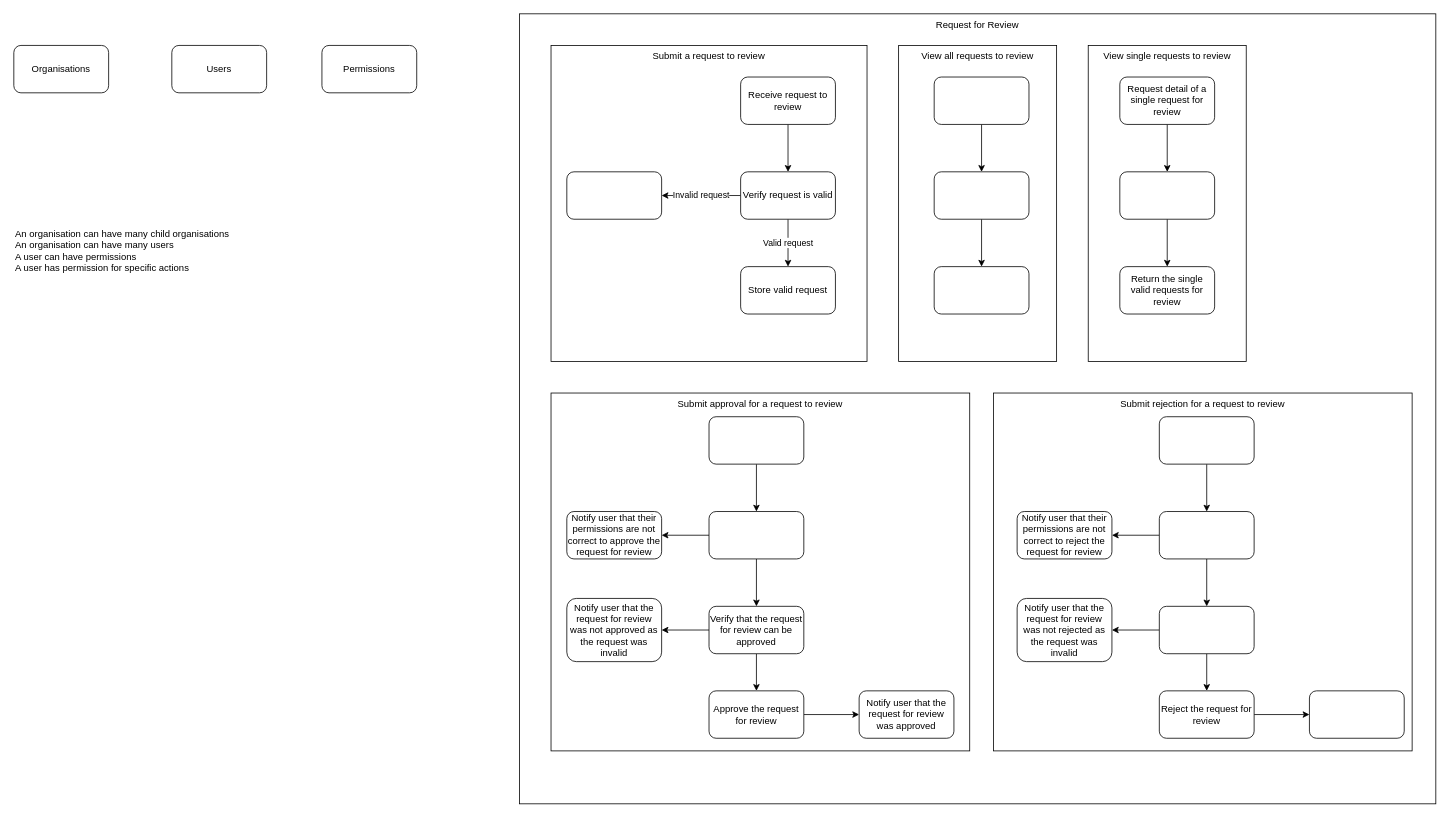
This 1450x818 diagram has some shape labels left out. The centre of each missing label's shape, as x and y in pixels:
Fetch all valid requests for review: the point at 981,195
Fetch the single requests for review: the point at 1167,195
Notify requester that request is invalid: the point at 614,195
Notify user that the request for review was rejected: the point at 1356,714
Request all valid requests for review: the point at 981,100
Return all valid requests for review: the point at 981,290
Submit approval for request for review: the point at 756,440
Submit rejection for request for review: the point at 1206,440
Verify that the request for review can be rejected: the point at 1206,630
Verify user submitting approval has correct permissions: the point at 756,535
Verify user submitting rejections has correct permissions: the point at 1206,535
